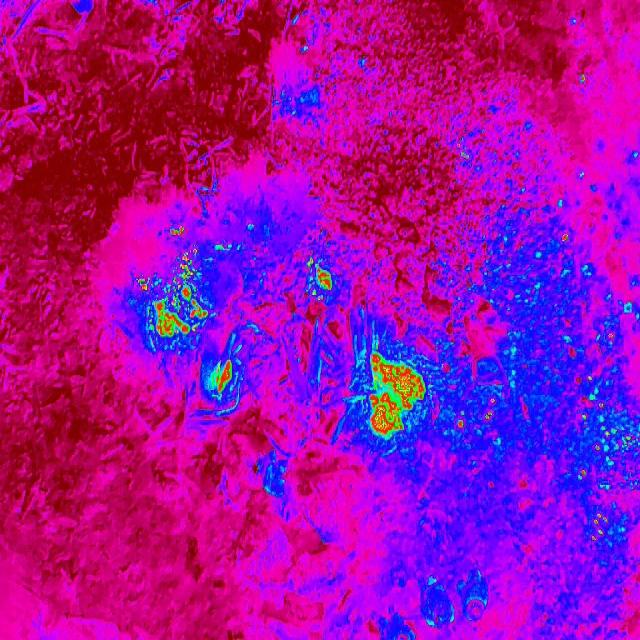fire: (537, 225, 640, 553), (362, 345, 428, 445), (138, 249, 208, 342), (446, 388, 504, 442), (306, 256, 336, 304), (208, 355, 234, 397), (164, 223, 188, 241), (455, 146, 474, 164), (578, 70, 590, 90)
